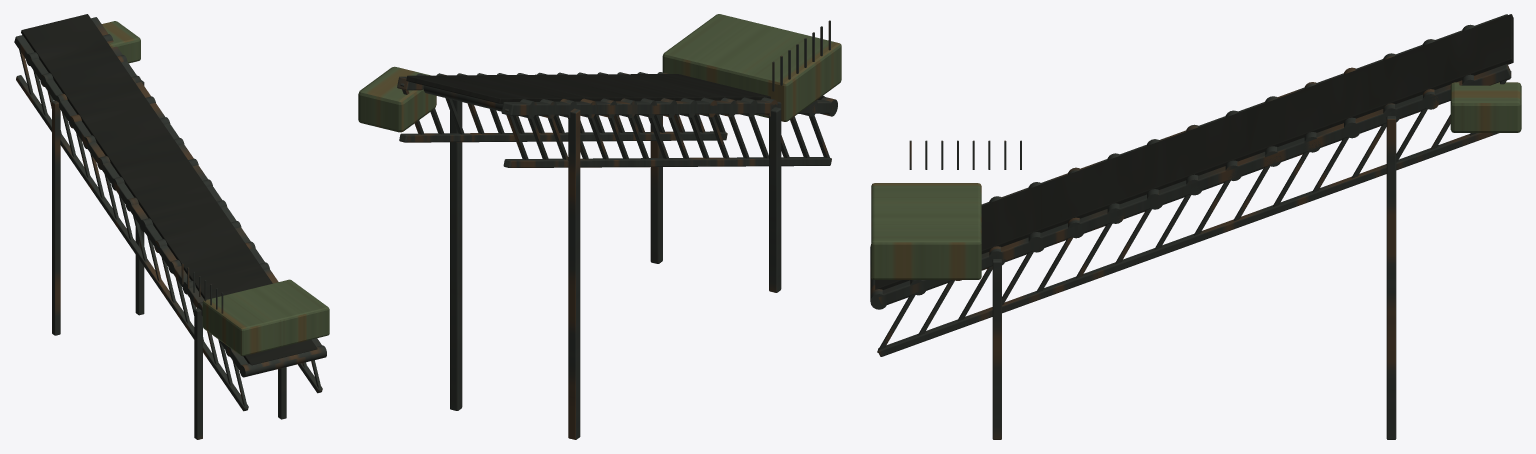
Rendered from quarry-conveyor.obj.
3 views of the same model, side by side, from view 1: azimuth 30°, elevation 25°; view 2: azimuth 150°, elevation 25°; view 3: azimuth 270°, elevation 25° (orthographic). The views are drawn at different scales.
Visible parts, largest first — view 1: quarry-conveyor; view 2: quarry-conveyor; view 3: quarry-conveyor.
Boxes of the visible parts, x1,y1,x2,y2 form: quarry-conveyor: (14, 14, 329, 439); quarry-conveyor: (358, 14, 841, 439); quarry-conveyor: (870, 14, 1521, 439).
Size of the model in its own units: 2.34 by 5.23 by 8.26.
Materials: 1 (1 with a texture image).
